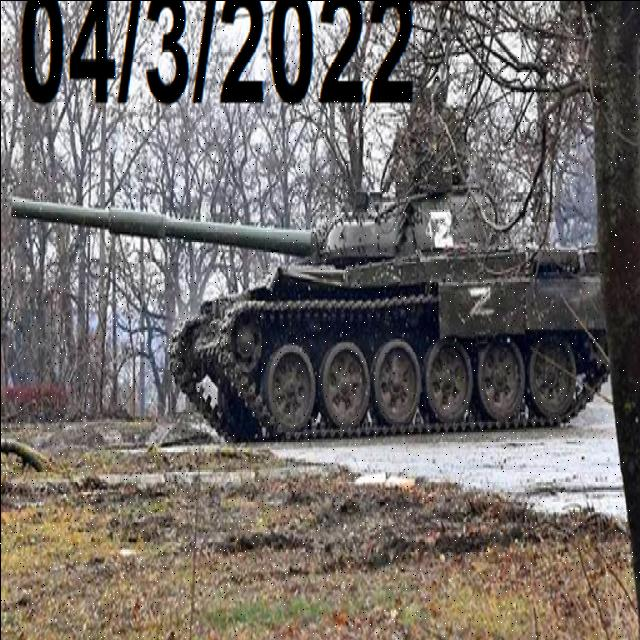TANK: (0, 168, 616, 444)
